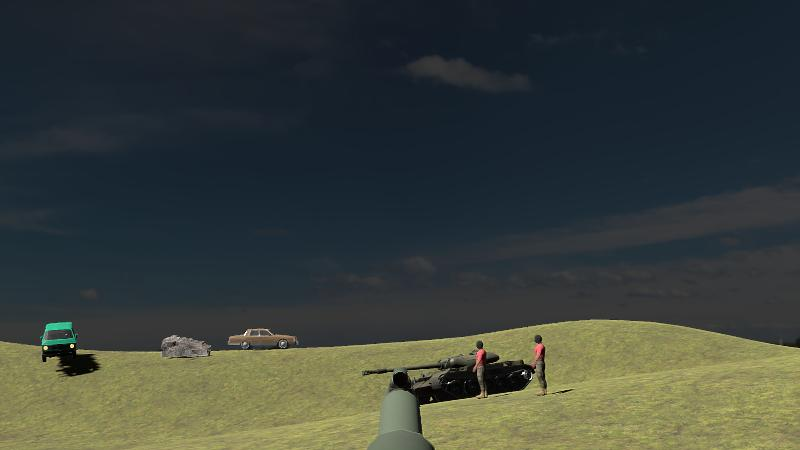Human: (472, 340, 488, 400), (532, 333, 547, 397)
Tank: (361, 349, 536, 405)
car: (228, 326, 297, 353), (41, 322, 78, 362)
